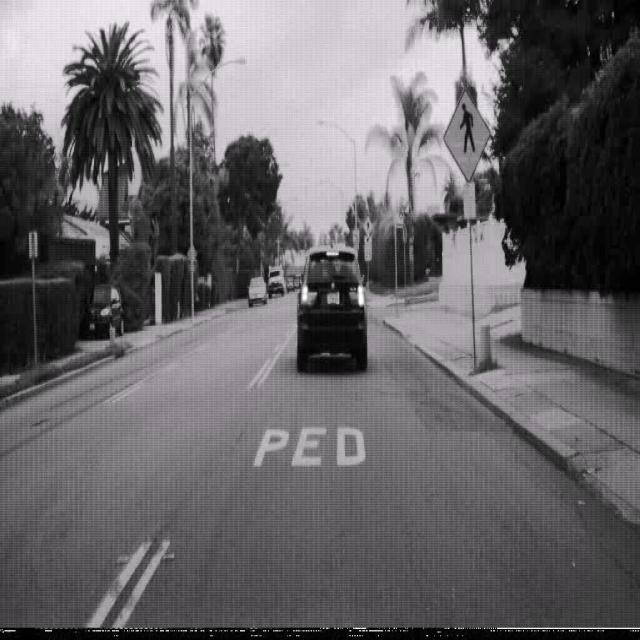pedestrianCrossing: (442, 86, 492, 184)
